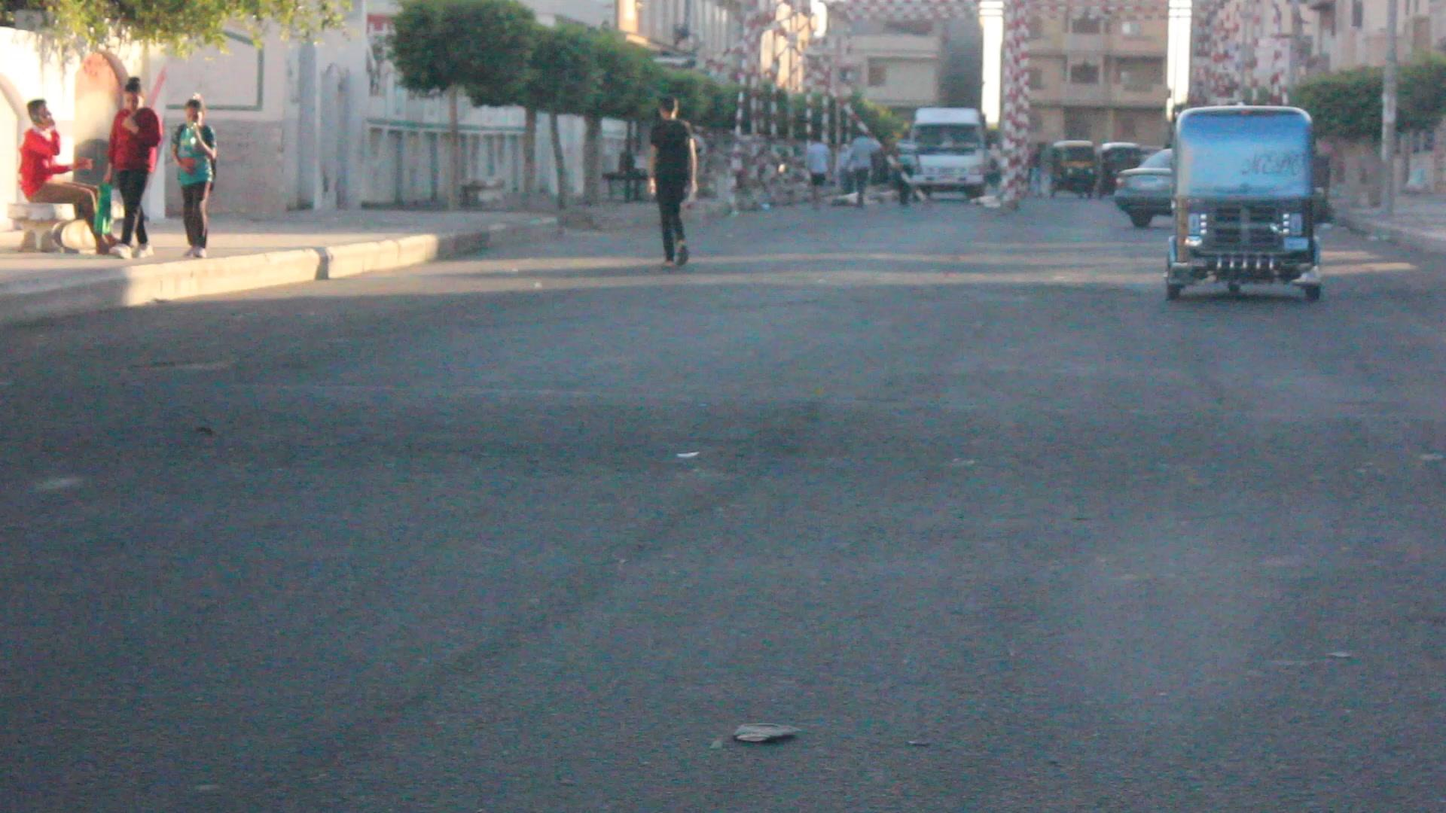Bump: (8, 351, 1445, 499)
